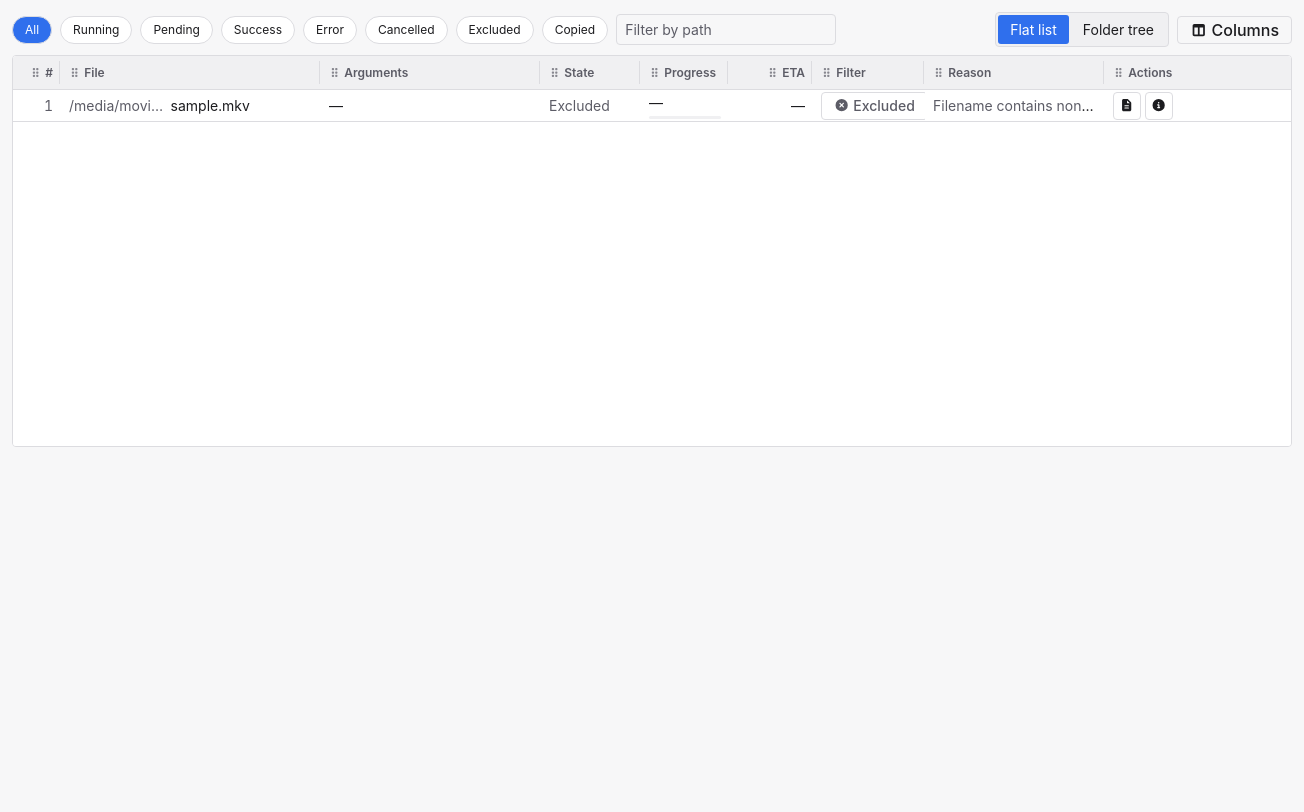
QueueTable › opens a filter trace popover with the stage outcomes
Click the button with aria-label "Why is this file here". click: (874, 106)
box: [821,92,928,120]
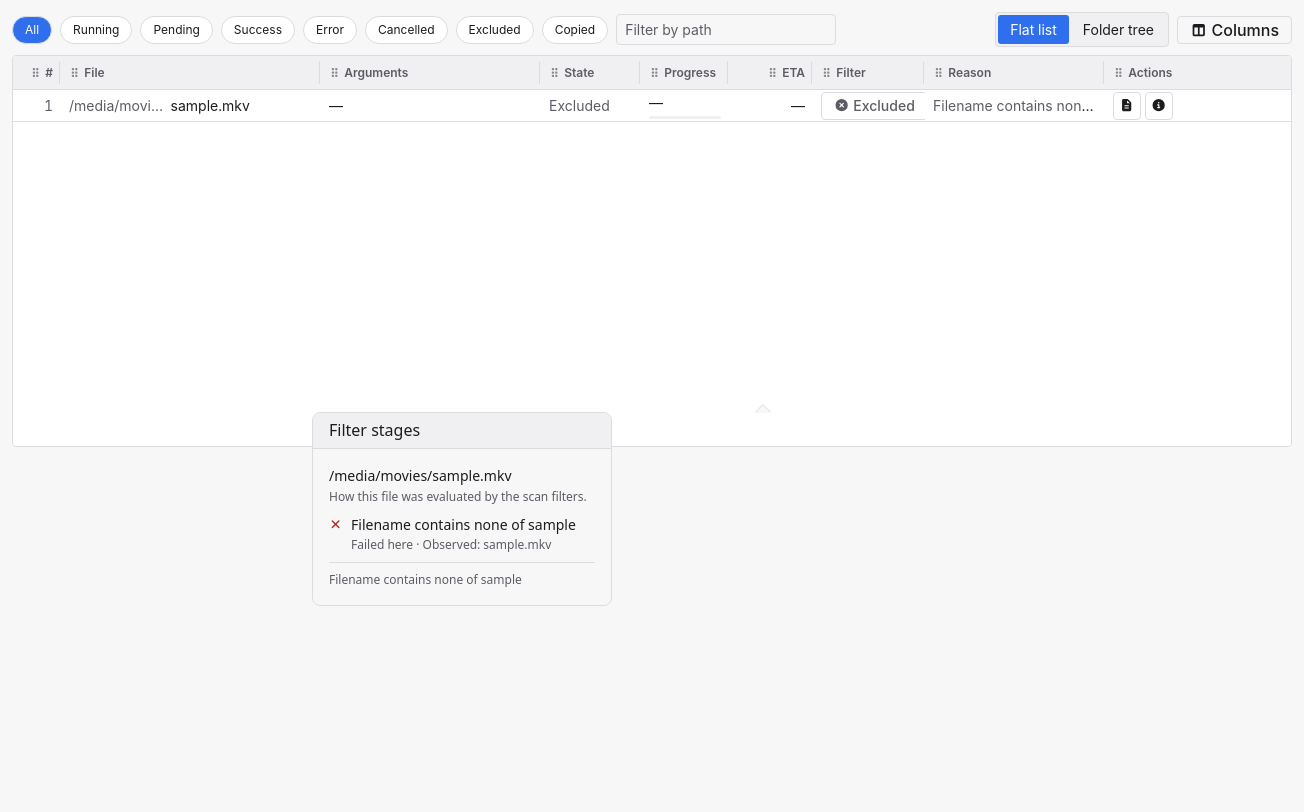
Expected: the text "Filename contains none of sample" below "Progress" is shown, [933,97,1105,114]
Expected: the heading "Filter stages" is shown, [313,413,611,449]
Expected: the text "Failed here" is shown, [351,536,413,553]
